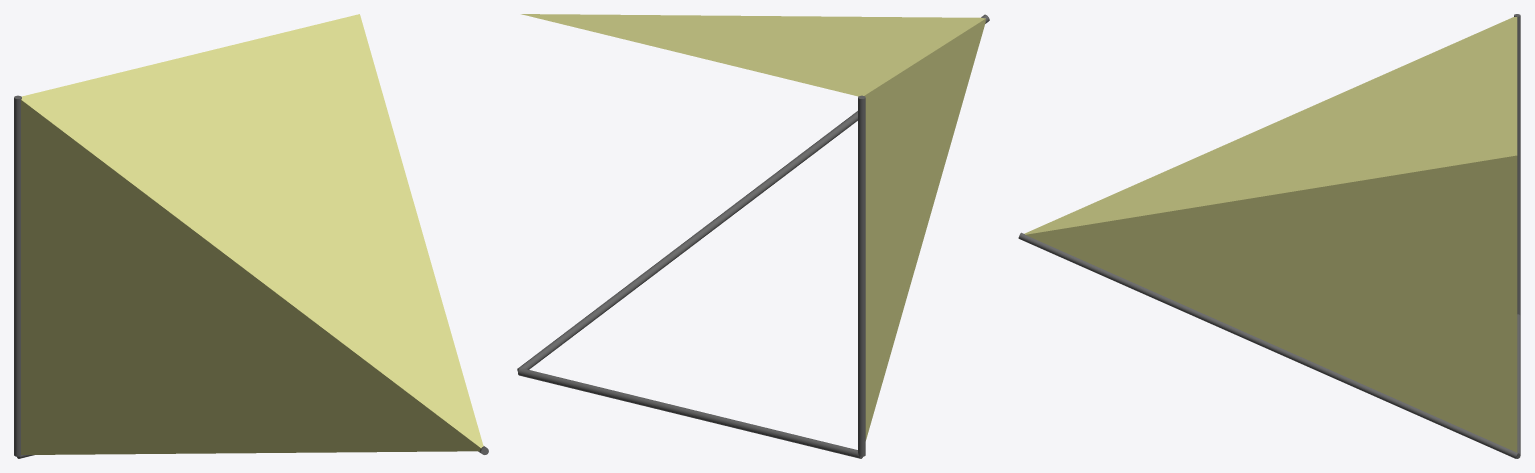
The picture shows the model from 3 angles, left to right: view 1: azimuth 30°, elevation 25°; view 2: azimuth 150°, elevation 25°; view 3: azimuth 270°, elevation 25°; orthographic projection. The views are drawn at different scales.
Parts seen in each view (by area): view 1: world; view 2: world; view 3: world.
Boxes of the visible parts, left/top/right/bottom form: world: left=14, top=14, right=488, bottom=458; world: left=517, top=14, right=989, bottom=458; world: left=1018, top=14, right=1520, bottom=458.
Size of the model in its own units: 2.04 by 2.02 by 3.03.
